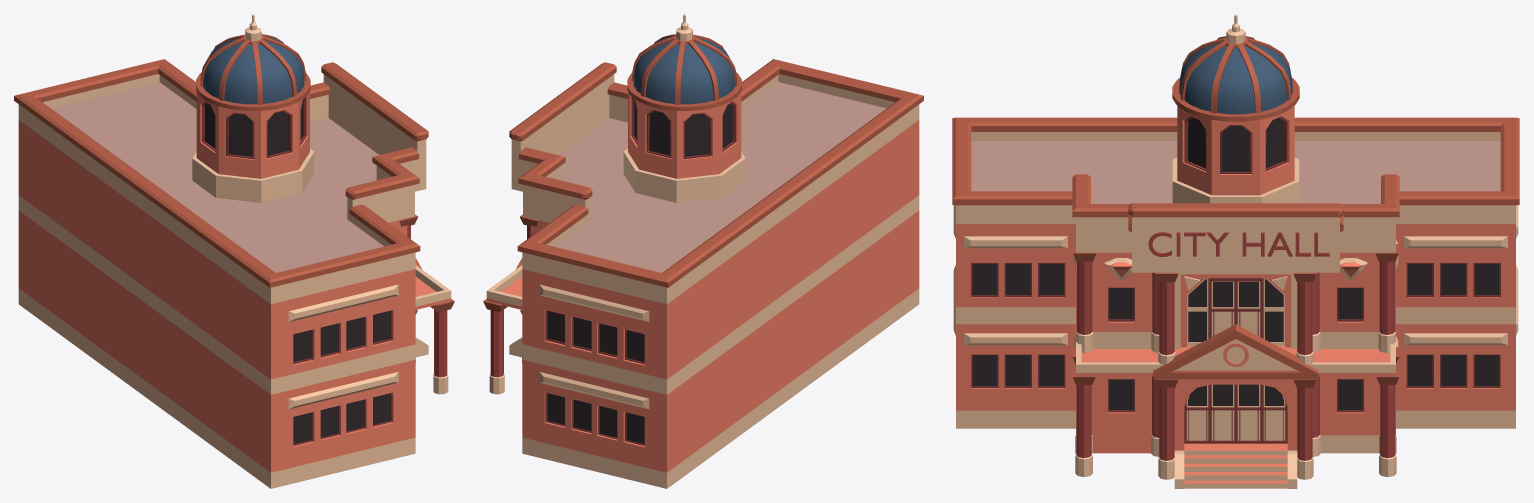
The picture shows the model from 3 angles, left to right: view 1: azimuth 30°, elevation 25°; view 2: azimuth 150°, elevation 25°; view 3: azimuth 270°, elevation 25°; orthographic projection. The views are drawn at different scales.
Visible parts, largest first — view 1: PublicBuilding_CityHall; view 2: PublicBuilding_CityHall; view 3: PublicBuilding_CityHall.
Boxes of the visible parts, x1=… form: PublicBuilding_CityHall: x1=14, y1=14, x2=454, y2=488; PublicBuilding_CityHall: x1=483, y1=14, x2=923, y2=488; PublicBuilding_CityHall: x1=952, y1=14, x2=1519, y2=488.
Size of what is drawn, in the model's own units: 5.41 by 7.11 by 9.25.
Materials: 1 (1 with a texture image).
